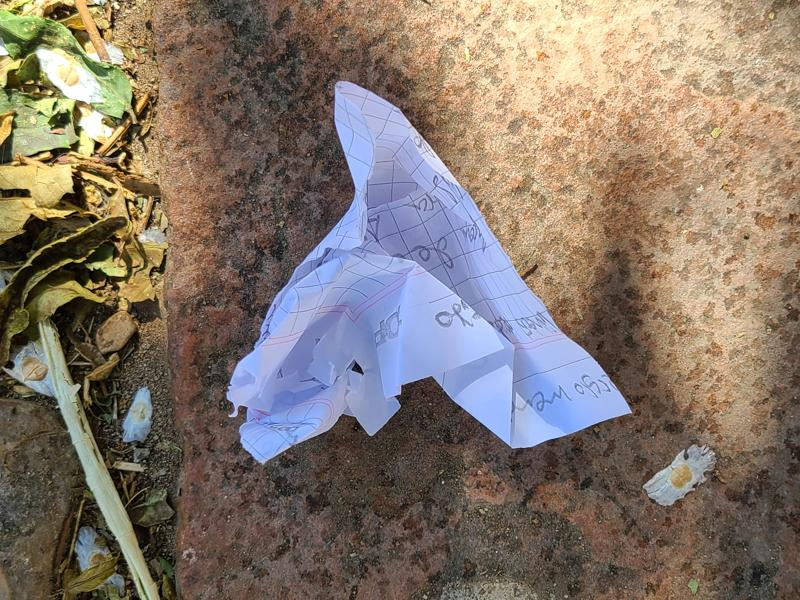papel: (227, 81, 632, 465)
